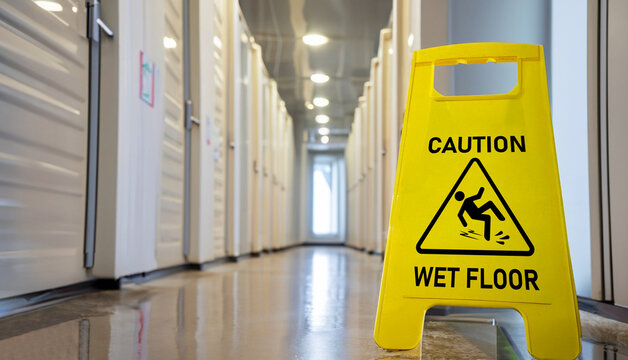wet caution sign: (383, 54, 575, 360)
